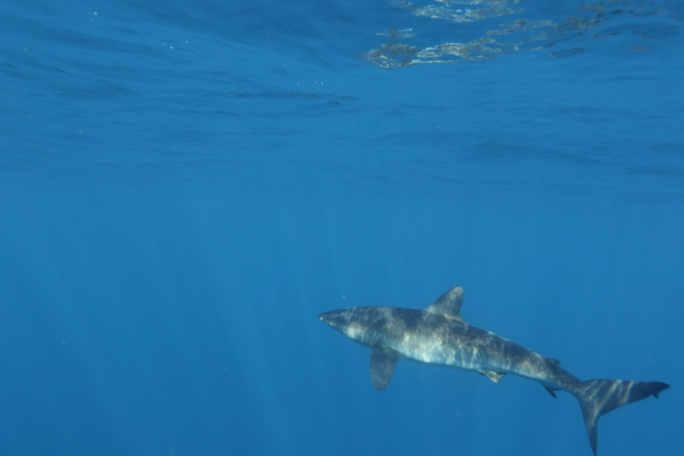Sedoso: (313, 285, 682, 456)
